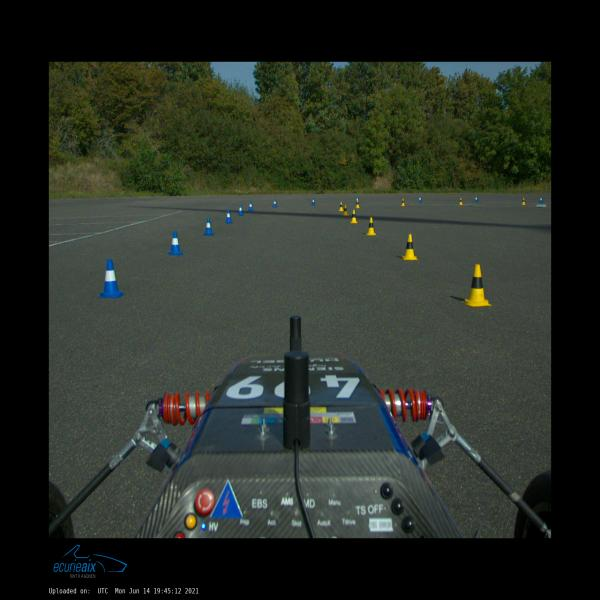blue_cone: (98, 259, 124, 297), (168, 231, 182, 255), (203, 218, 214, 235), (225, 210, 233, 223), (237, 205, 244, 215), (248, 201, 253, 211), (272, 199, 278, 207), (418, 196, 422, 202), (356, 197, 360, 203), (539, 196, 543, 202), (312, 198, 315, 205), (475, 196, 478, 202)
yellow_cone: (462, 264, 492, 306), (402, 234, 418, 260), (366, 218, 376, 235), (350, 210, 357, 224), (342, 205, 349, 215), (338, 202, 344, 211), (355, 200, 360, 208), (459, 198, 463, 205), (522, 198, 526, 205), (402, 199, 406, 206)
